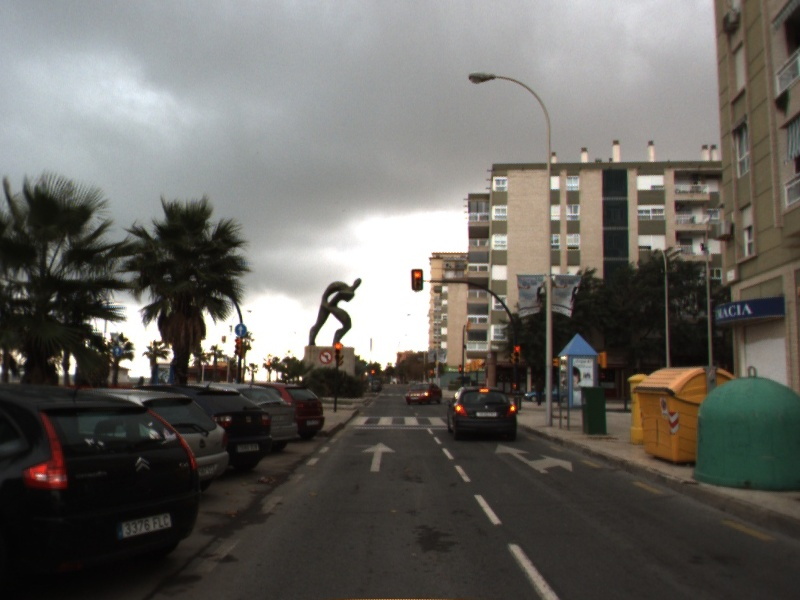STRAIGHT: (360, 440, 398, 473)
STRAIGHT_RIGHT: (493, 441, 574, 475)
